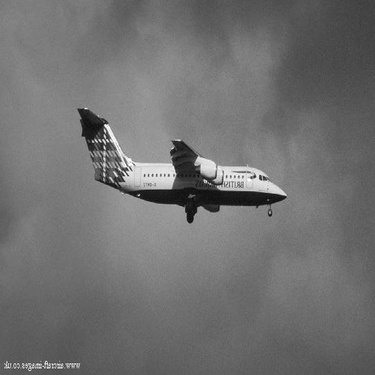airplane: (62, 100, 296, 227)
